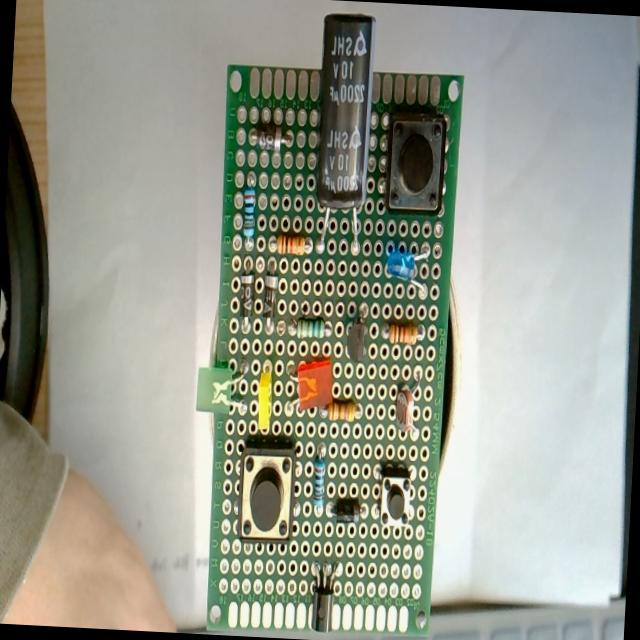Electrolytic capacitor: (310, 5, 380, 258)
cds: (392, 369, 428, 447)
diode: (233, 257, 258, 336), (245, 124, 295, 156), (262, 262, 279, 336), (328, 499, 361, 524)
led: (193, 354, 250, 421), (253, 356, 280, 434), (296, 358, 334, 413), (385, 241, 430, 283)
resistor: (380, 318, 429, 350), (242, 189, 257, 240), (276, 234, 309, 257), (312, 458, 326, 512), (328, 399, 356, 422), (296, 318, 324, 339)
switch: (384, 110, 448, 217), (238, 443, 298, 544), (378, 468, 412, 526)
transistor: (310, 558, 340, 636), (345, 301, 371, 366)
